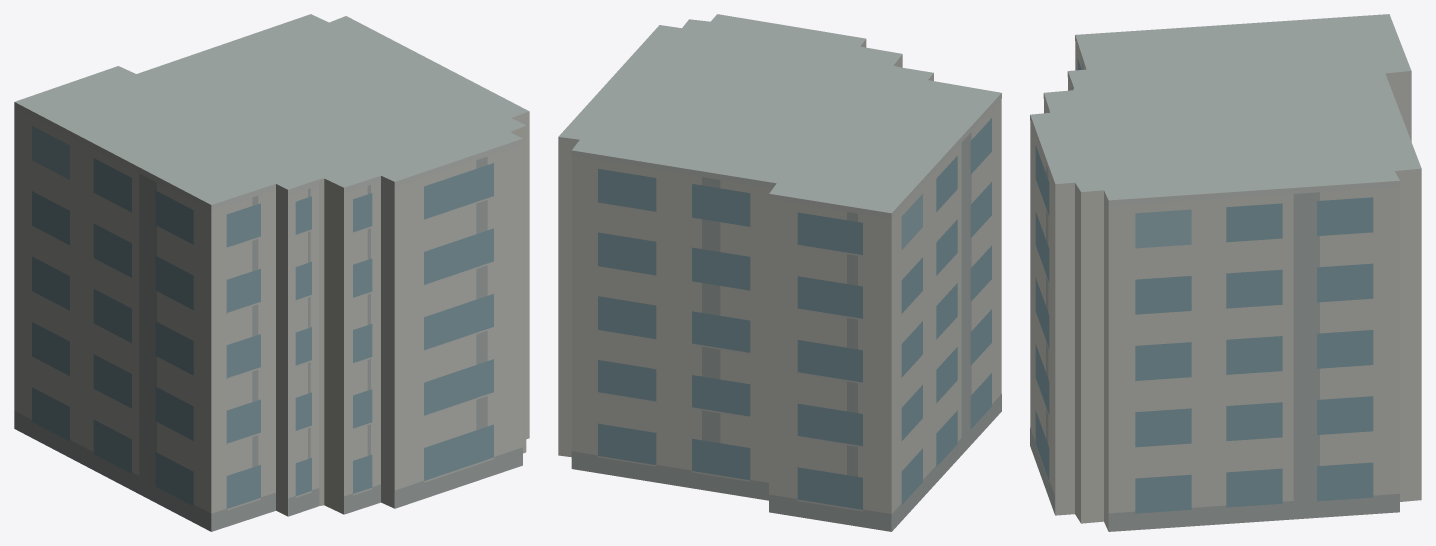
File: survey-upis-32884552.glb
The picture shows the model from 3 angles, left to right: view 1: azimuth 30°, elevation 25°; view 2: azimuth 150°, elevation 25°; view 3: azimuth 270°, elevation 25°; orthographic projection. The views are drawn at different scales.
Parts seen in each view (by area): view 1: survey-upis-32884552.tmp; view 2: survey-upis-32884552.tmp; view 3: survey-upis-32884552.tmp.
Boxes of the visible parts, x1=… form: survey-upis-32884552.tmp: x1=14, y1=14, x2=529, y2=531; survey-upis-32884552.tmp: x1=558, y1=14, x2=1001, y2=531; survey-upis-32884552.tmp: x1=1030, y1=14, x2=1421, y2=531.
Bounding box in the file's own units: 16.17 × 13.4 × 14.35.
